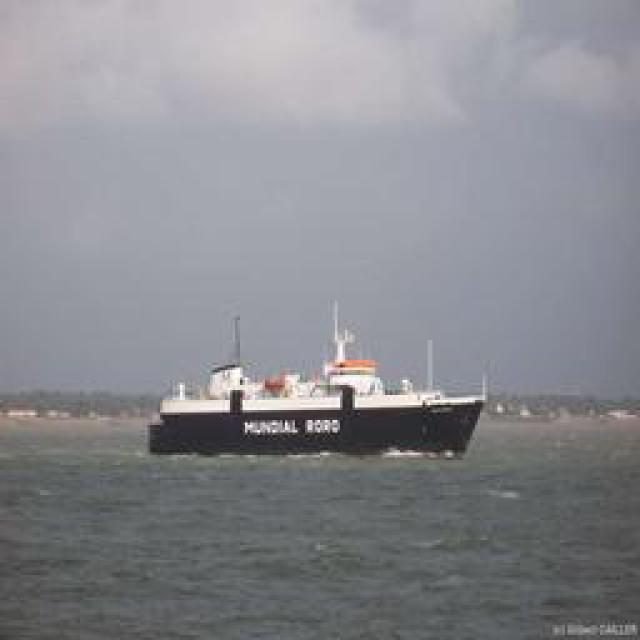Ship: (148, 301, 493, 461)
